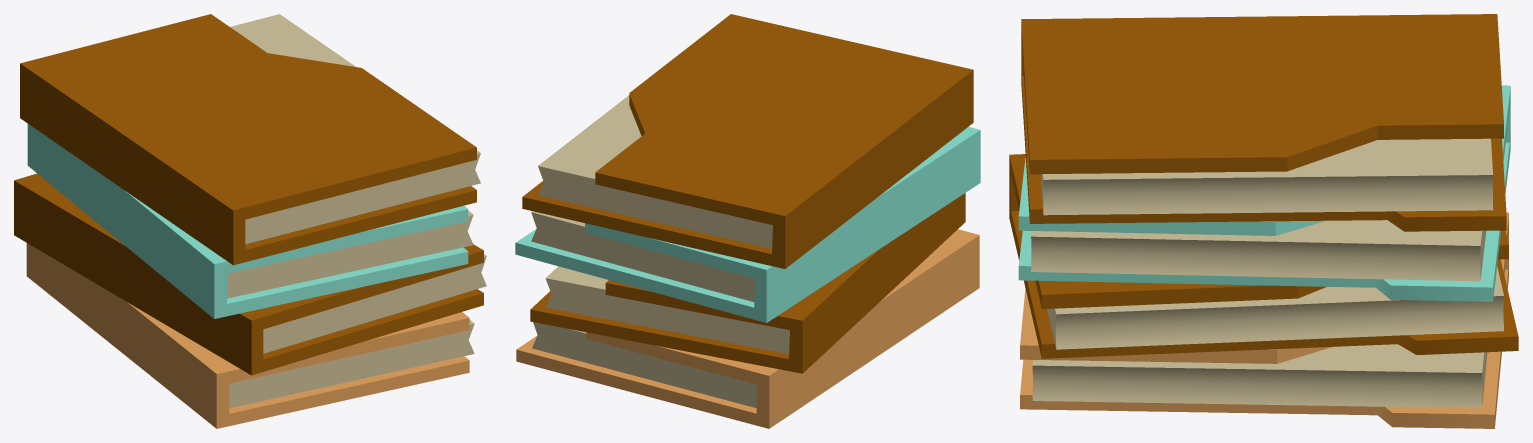
Rendered from SM_Folders_A_GRP_02.fbx.
The picture shows the model from 3 angles, left to right: view 1: azimuth 30°, elevation 25°; view 2: azimuth 150°, elevation 25°; view 3: azimuth 270°, elevation 25°; orthographic projection. The views are drawn at different scales.
Parts seen in each view (by area): view 1: SM_Folders_A_GRP_02; view 2: SM_Folders_A_GRP_02; view 3: SM_Folders_A_GRP_02.
Part boxes in pixels (bbox=[...]): SM_Folders_A_GRP_02: bbox=[14, 14, 486, 428]; SM_Folders_A_GRP_02: bbox=[515, 14, 980, 428]; SM_Folders_A_GRP_02: bbox=[1009, 14, 1518, 428].
Size of the model in its own units: 24.88 by 17.79 by 32.07.
